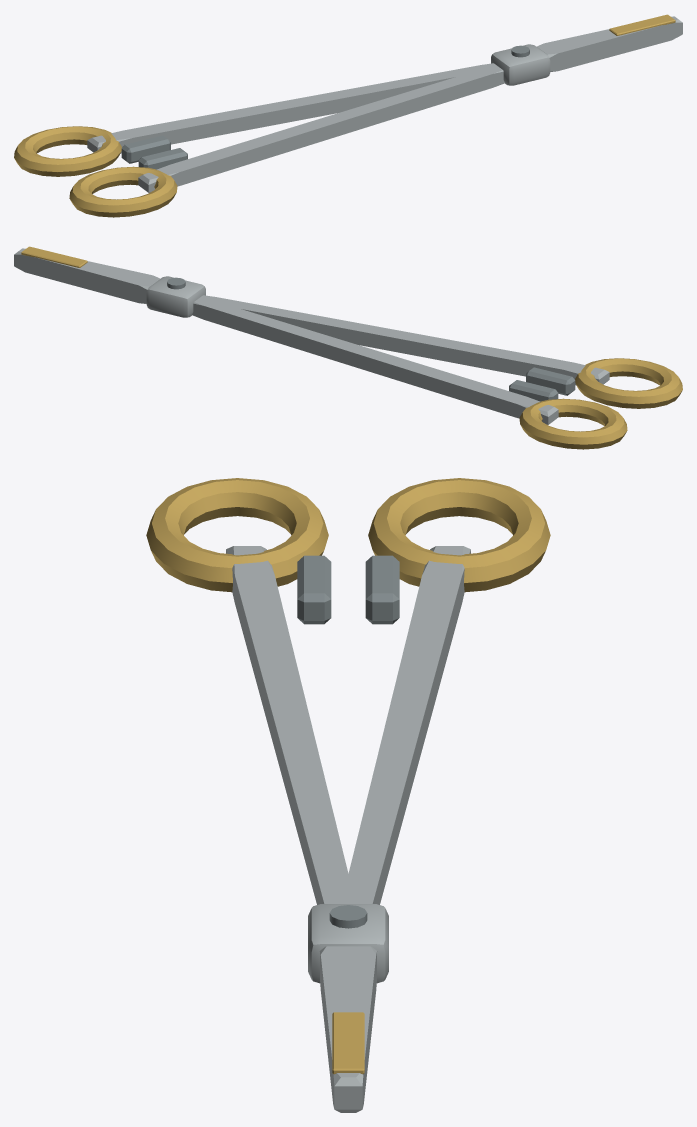
The model's file is sc-needle-holder.glb.
3 views of the same model, one above another, from view 1: azimuth 30°, elevation 25°; view 2: azimuth 150°, elevation 25°; view 3: azimuth 270°, elevation 25° (orthographic). The views are drawn at different scales.
Visible parts, largest first — view 1: sc-needle-holder; view 2: sc-needle-holder; view 3: sc-needle-holder.
Boxes of the visible parts, x1=… form: sc-needle-holder: x1=14, y1=14, x2=682, y2=217; sc-needle-holder: x1=14, y1=246, x2=682, y2=449; sc-needle-holder: x1=146, y1=478, x2=550, y2=1112.
Bounding box in the file's own units: 0.1714 × 0.007 × 0.0474.
